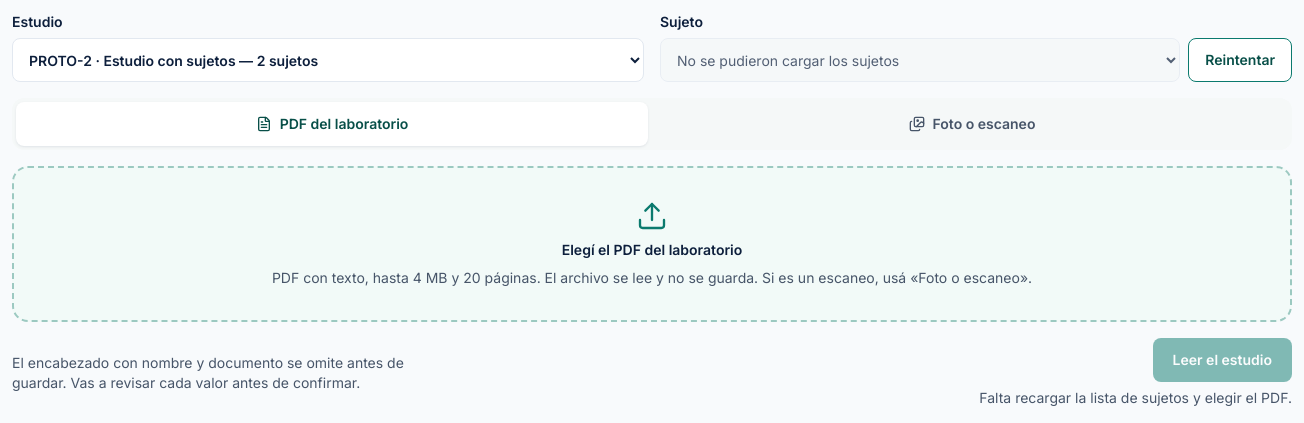
Test: LabUploadForm — cargar estudio de laboratorio › si la lista de sujetos falla, se puede reintentar
Click the button "Reintentar".
click(1240, 60)  # box [1188, 38, 1292, 82]
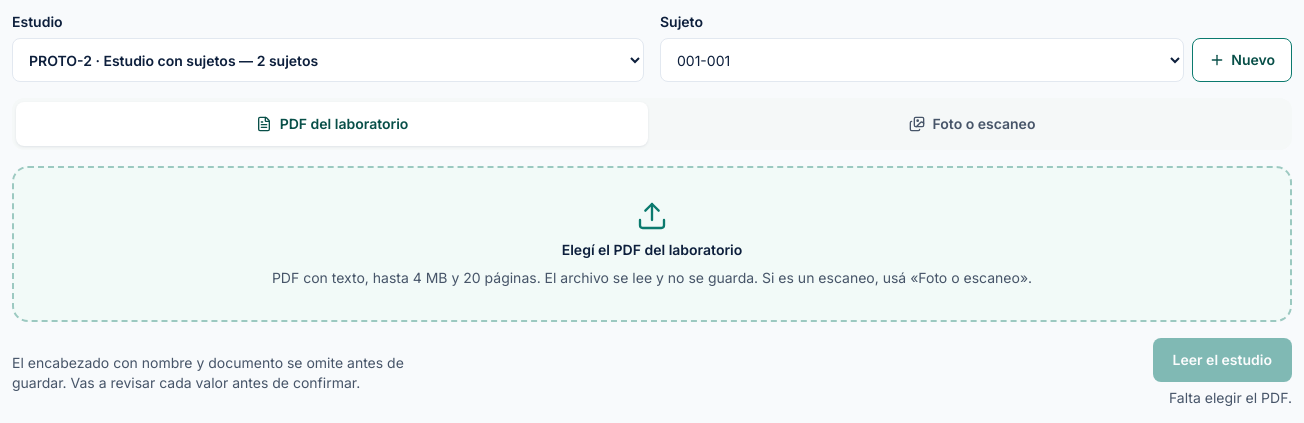
Result: the dropdown labelled "Sujeto" shows "001-001" at [660, 38, 1184, 82]
